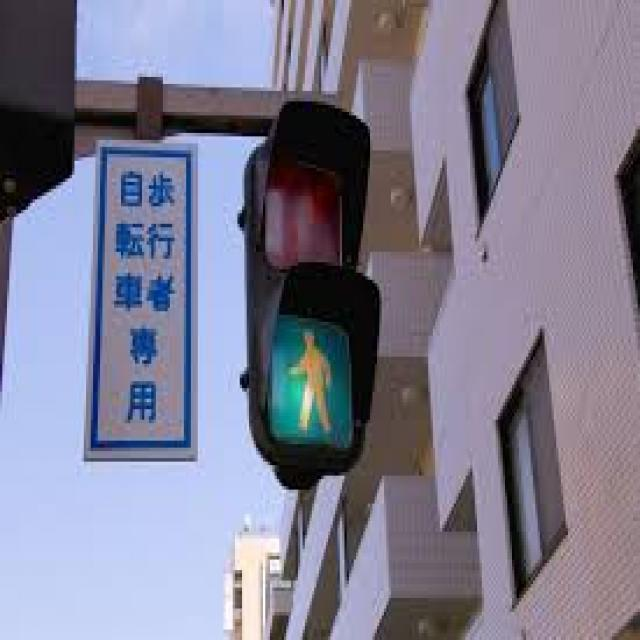trafficlight: (238, 116, 372, 476)
